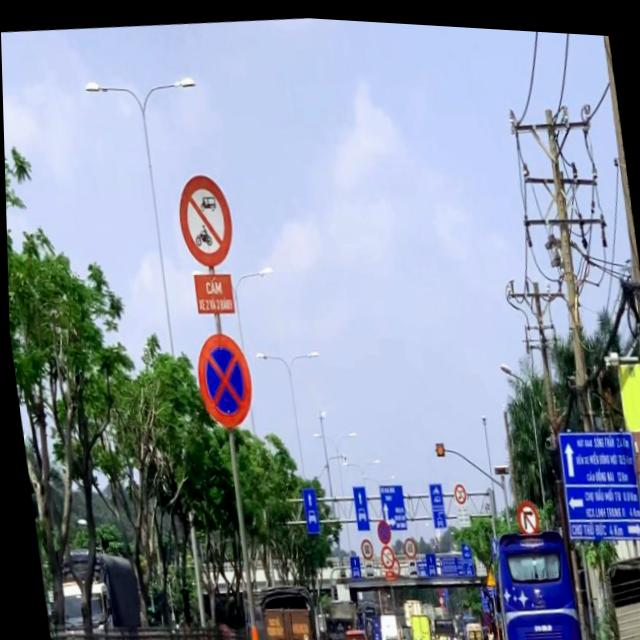Cam dung xe va do xe: (188, 323, 257, 431), (373, 513, 389, 541)
Cam re phai: (511, 493, 537, 530)
Toc do toi da cho phep: (355, 533, 372, 558), (399, 530, 414, 556)
